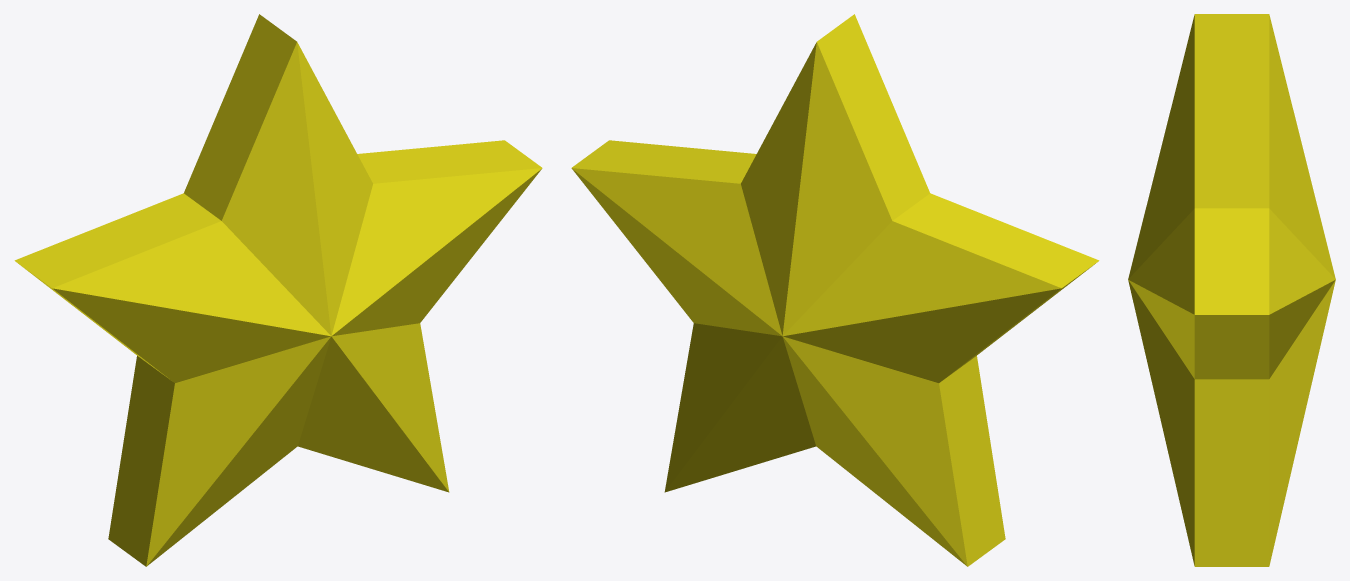
The model's file is star.fbx.
3 views of the same model, side by side, from view 1: azimuth 30°, elevation 25°; view 2: azimuth 150°, elevation 25°; view 3: azimuth 270°, elevation 25° (orthographic).
Parts seen in each view (by area): view 1: Star_Up002; view 2: Star_Up002; view 3: Star_Up002.
Part boxes in pixels (<box>): Star_Up002: <box>14,14,542,566</box>; Star_Up002: <box>571,14,1099,566</box>; Star_Up002: <box>1128,14,1335,566</box>.
Bounding box in the file's own units: 166 × 158 × 61.93.
1 material, 1 textured.
